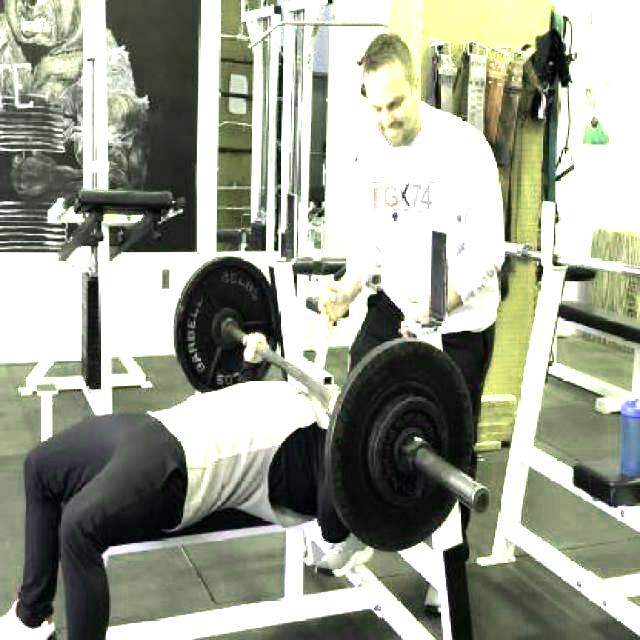barbell: (322, 339, 490, 555)
